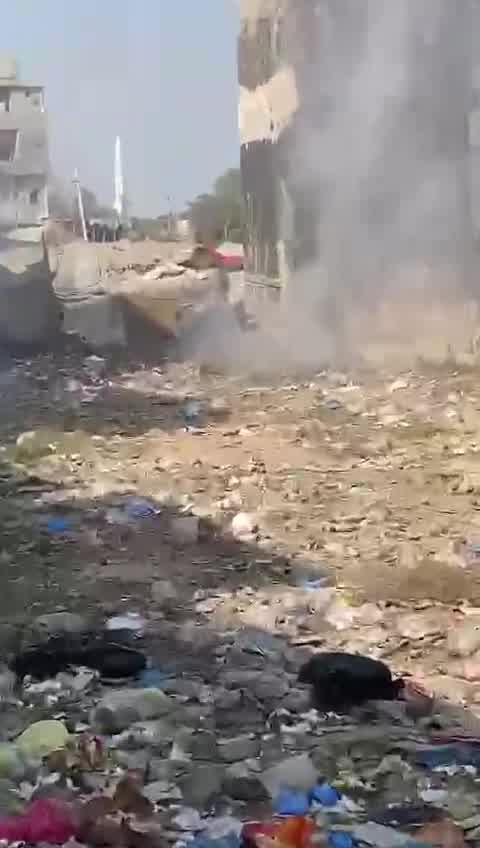garbage: (5, 354, 480, 848)
